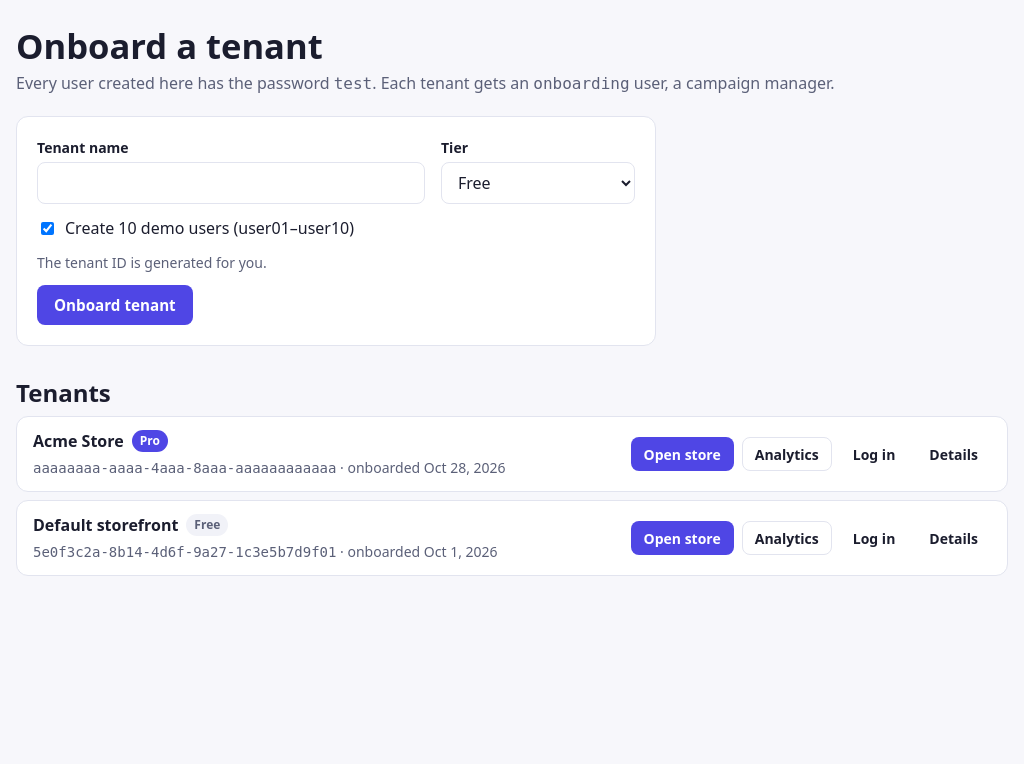
Test: a tenant's details › shows its SDK setup and its API keys as its manager, without switching the app to it
Click the button with aria-label "Details: Acme Store": point(954, 454) [916, 437, 991, 471]
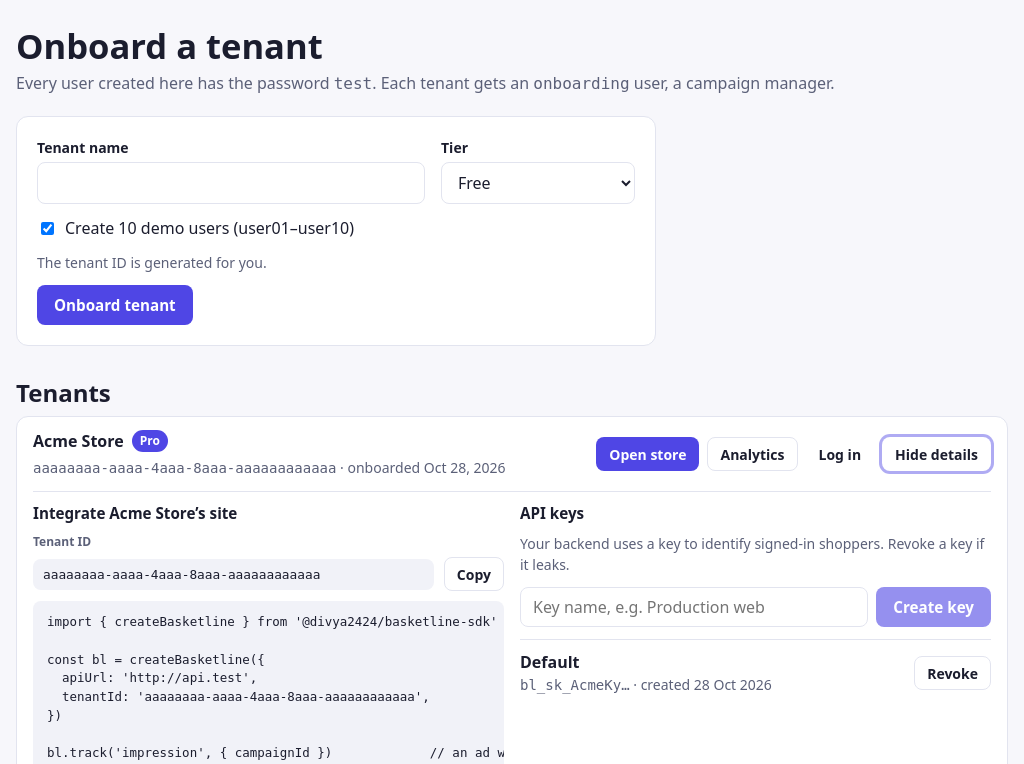
Result: the list named "API keys" shows "Default" at [520, 651, 580, 673]
Result: the button with aria-label "Details: Acme Store" is expanded at [882, 437, 991, 471]
